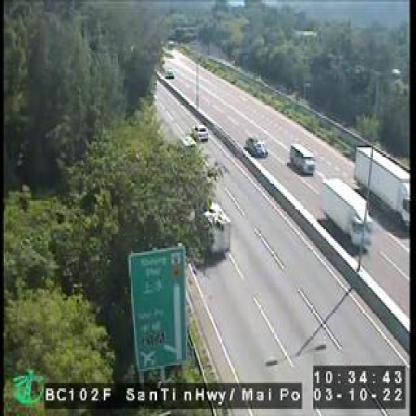Car: (288, 144, 314, 171), (246, 135, 269, 156), (191, 125, 211, 137)
Truck: (353, 146, 410, 227), (321, 176, 369, 249)
